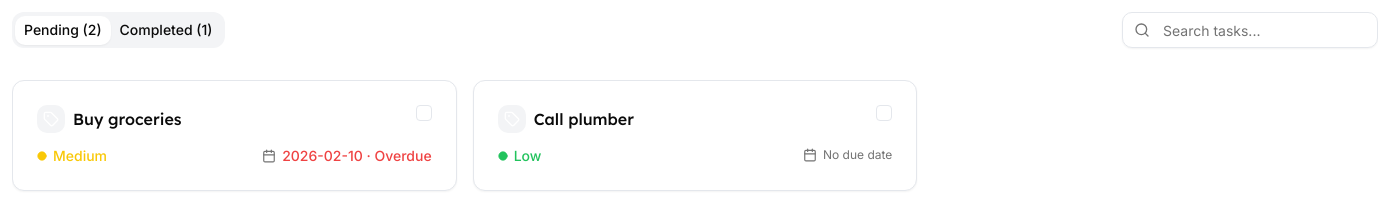
TaskList › filters tasks by search query
Type "groceries" into the field with placeholder "Search tasks..." at (1250, 30), box [1122,12,1378,48]
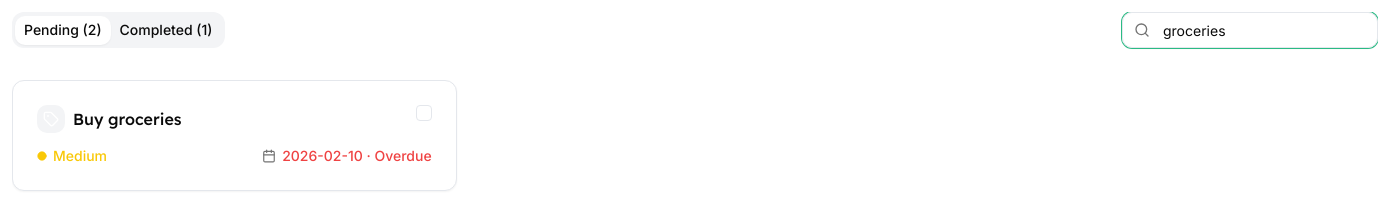
Check: the heading "Buy groceries" is shown, box [73,107,182,131]
Check: the button "Call plumber" is gone
